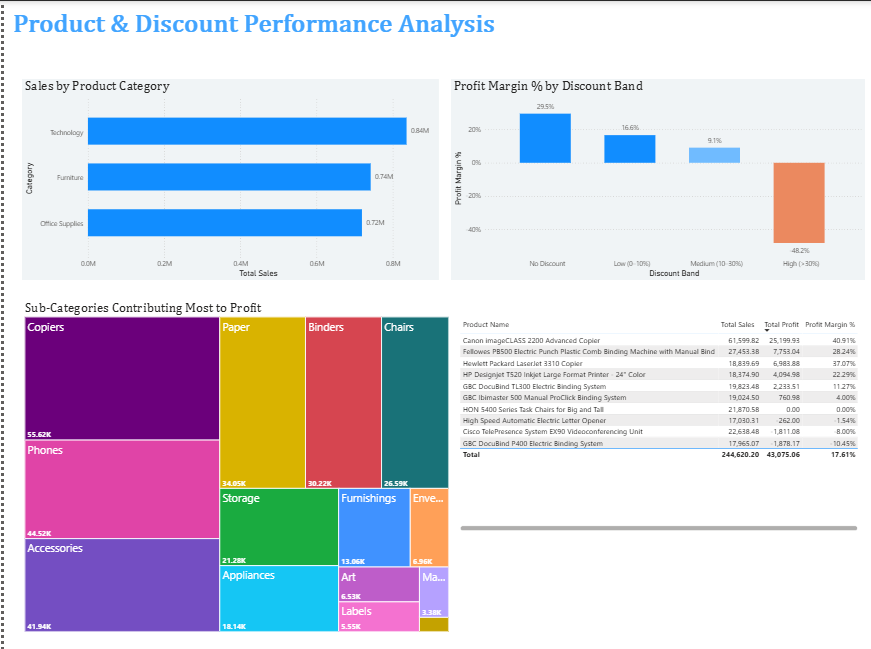

The dashboard page shown, as its layout file describes it:
{"tool":"powerbi","page":{"name":"Product & Discount Analysis","canvas":[1280,720],"ordinal":1},"visuals":[{"type":"clusteredBarChart","title":"Sales by Product Category","fields":{"Category":["Sample_ Superstore.Category"],"Y":["Sample_ Superstore.Total Sales"]},"box":[34,24,606,334],"z":0},{"type":"treemap","title":"Profit Contribution by Sub-Category","fields":{"Group":["Sample_ Superstore.Sub-Category"],"Values":["Sample_ Superstore.Total Profit"]},"box":[34,384,606,334],"z":1000},{"type":"clusteredColumnChart","fields":{"Category":["Sample_ Superstore.Discount Band"],"Y":["Sample_ Superstore.Profit Margin %"]},"box":[654,24,606,334],"z":2000},{"type":"tableEx","fields":{"Values":["Sample_ Superstore.Product Name","Sample_ Superstore.Total Sales","Sample_ Superstore.Total Profit","Sample_ Superstore.Profit Margin %"]},"box":[654,384,606,334],"z":3000}]}

Visuals, with their boxes on the page's 1280x720 design canvas (x1, y1, x2, y2). These are canvas units, not pixel positions in the 871x649 screenshot, which may show the page scaled, cropped or inside an application window:
"Sales by Product Category" clusteredBarChart: [x1=34, y1=24, x2=640, y2=358]
"Profit Contribution by Sub-Category" treemap: [x1=34, y1=384, x2=640, y2=718]
clusteredColumnChart - Sample_ Superstore.Discount Band x Sample_ Superstore.Profit Margin %: [x1=654, y1=24, x2=1260, y2=358]
tableEx - Sample_ Superstore.Product Name x Sample_ Superstore.Total Sales: [x1=654, y1=384, x2=1260, y2=718]
